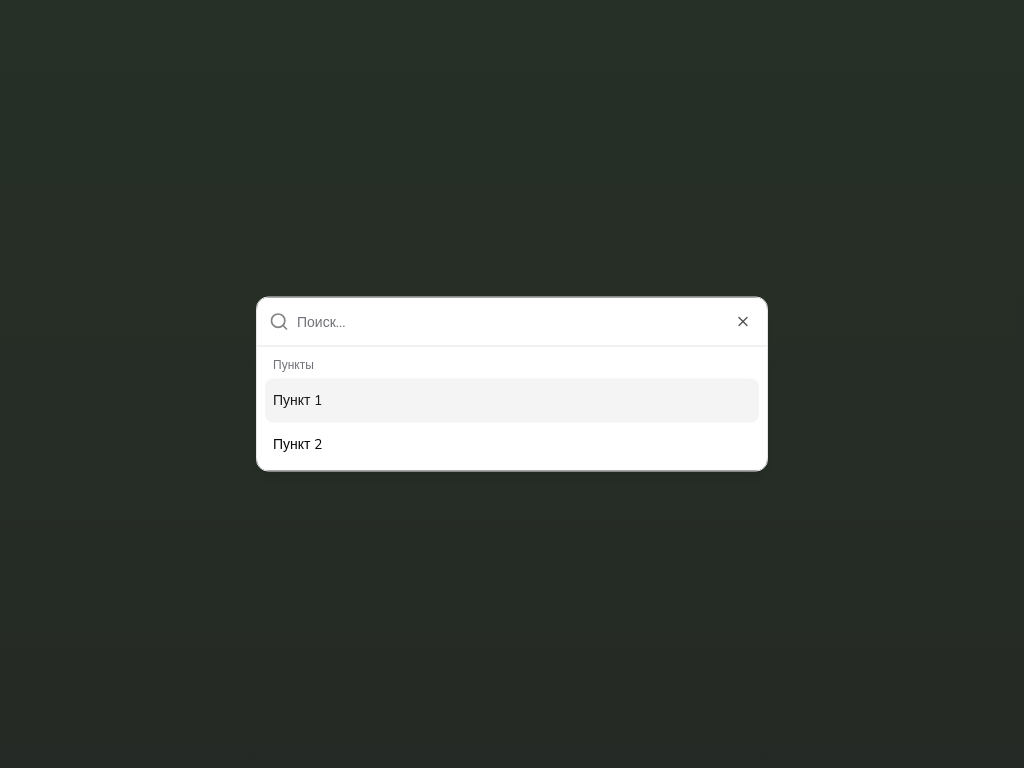
Test: CommandDialog Component › фильтрует пункты через CommandInput
Step 1. Type "пункт один" into the dropdown with test id "input" → (526, 322), box 297,298 -> 755,346
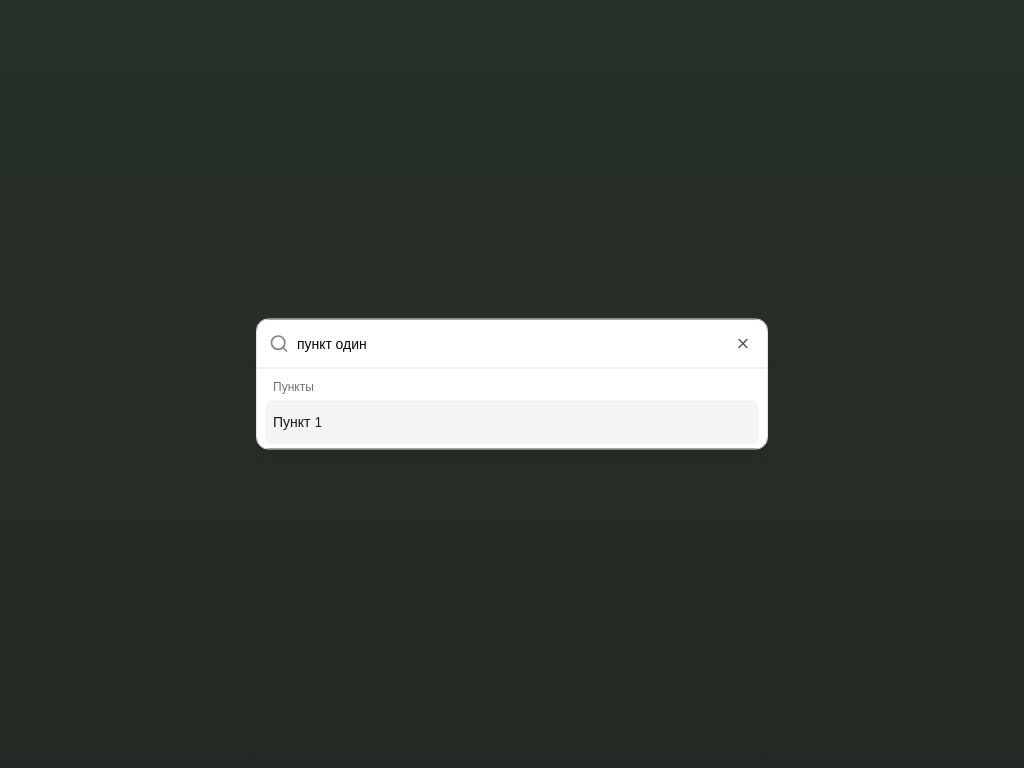
Check: the option "Пункт 1" is shown, box 265,400 -> 759,444
Check: the option "Пункт 2" is gone
